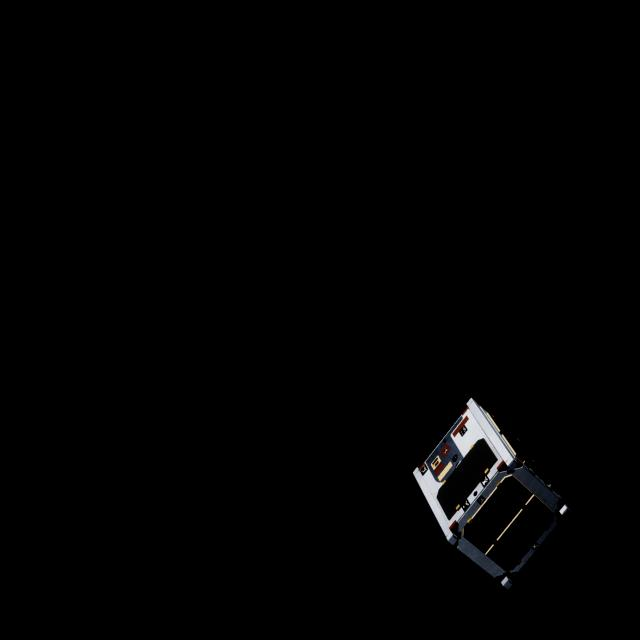medium_debris: (405, 395, 576, 600)
